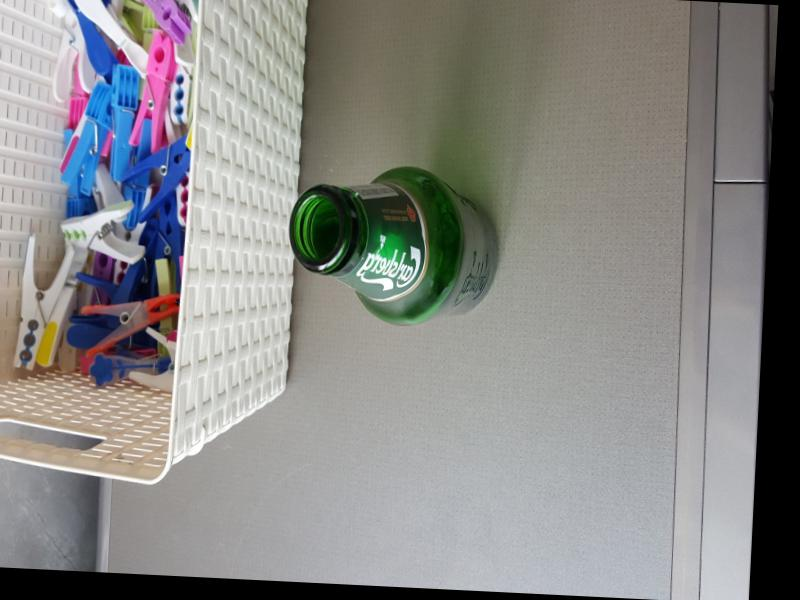Beer: (286, 161, 504, 331)
